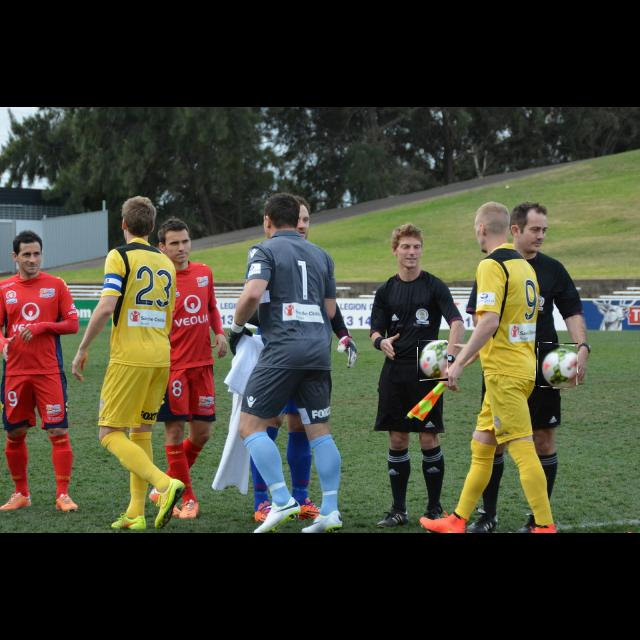Football: (536, 343, 578, 389), (418, 341, 448, 381)
